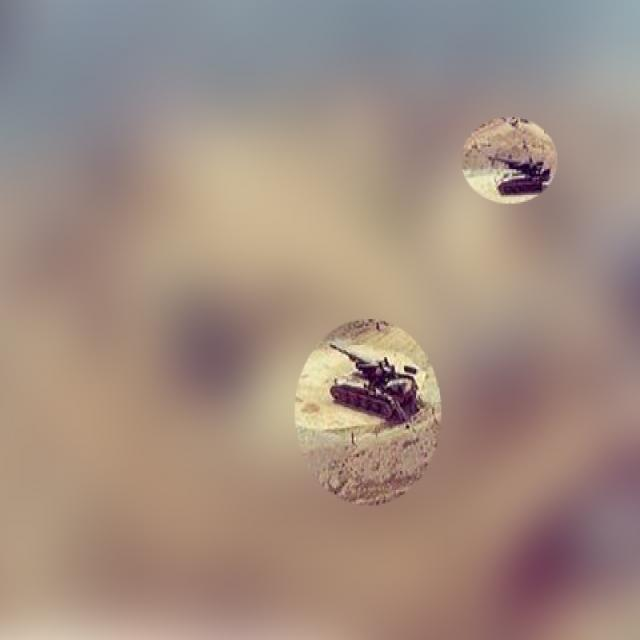tank: (324, 336, 420, 421), (481, 149, 551, 194)
